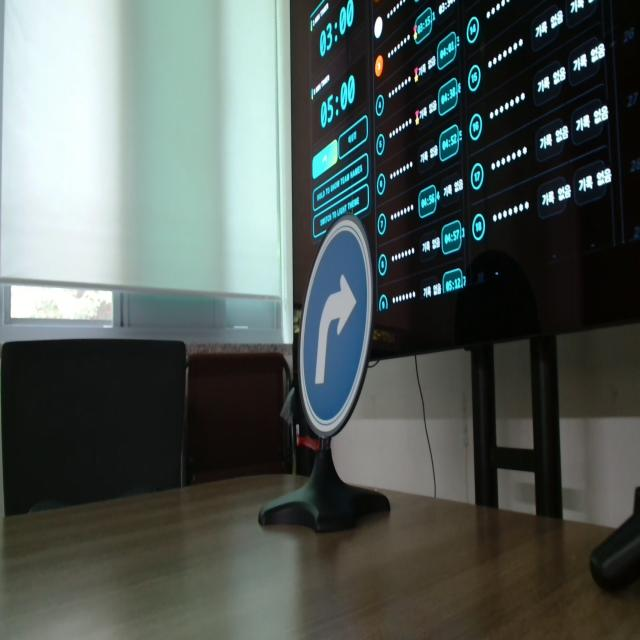right_dierection: (289, 217, 402, 467)
